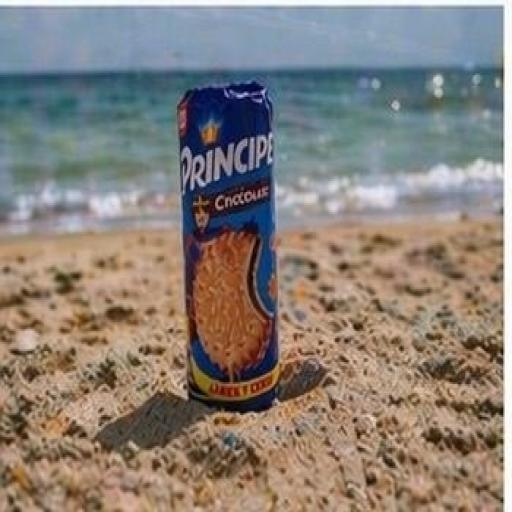prince: (115, 53, 350, 442)
